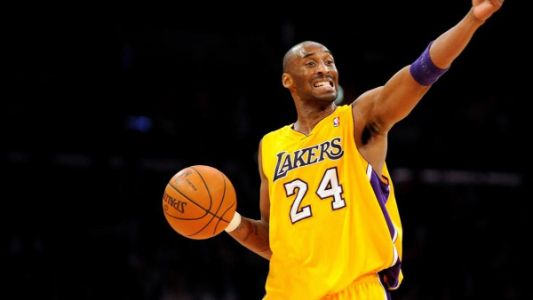baloncesto: (162, 165, 237, 240)
